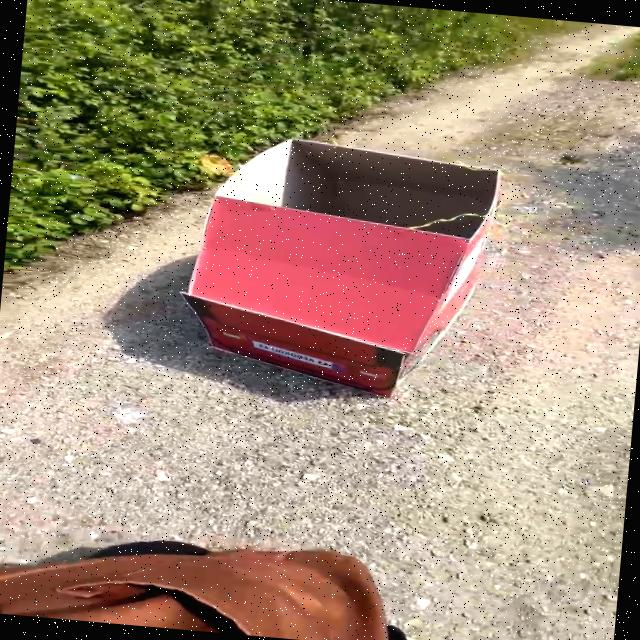red_car: (94, 100, 565, 433)
